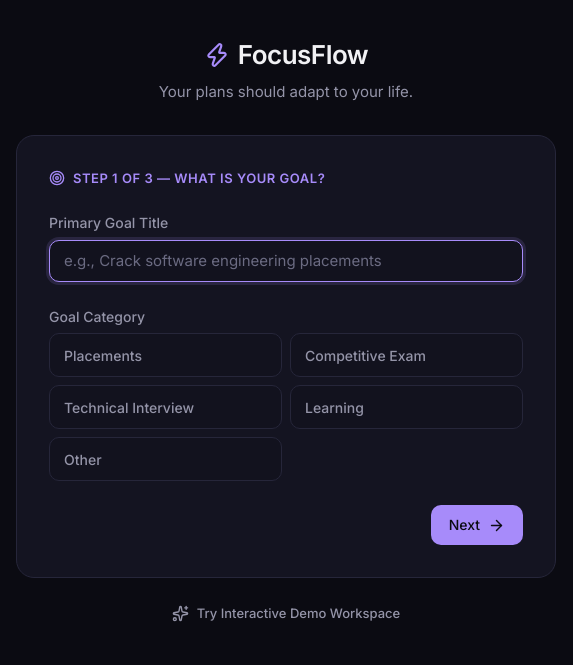
Scenario: 6. Validating onboarding inputs › shows inline validation errors on Onboarding UI when advancing with blank inputs
Click the button "Next".
click(477, 525)  # box left=431, top=505, right=523, bottom=545
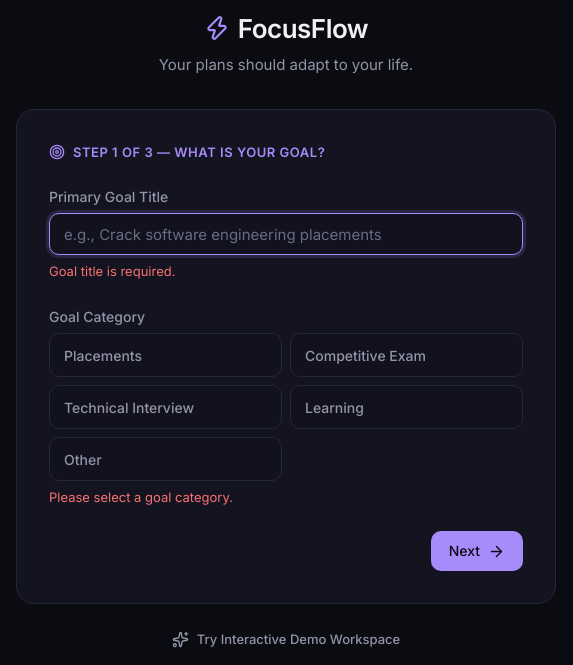
Now the text "Goal title is required." is shown, box left=49, top=264, right=176, bottom=280
Now the text "Please select a goal category." is shown, box left=49, top=489, right=233, bottom=505
